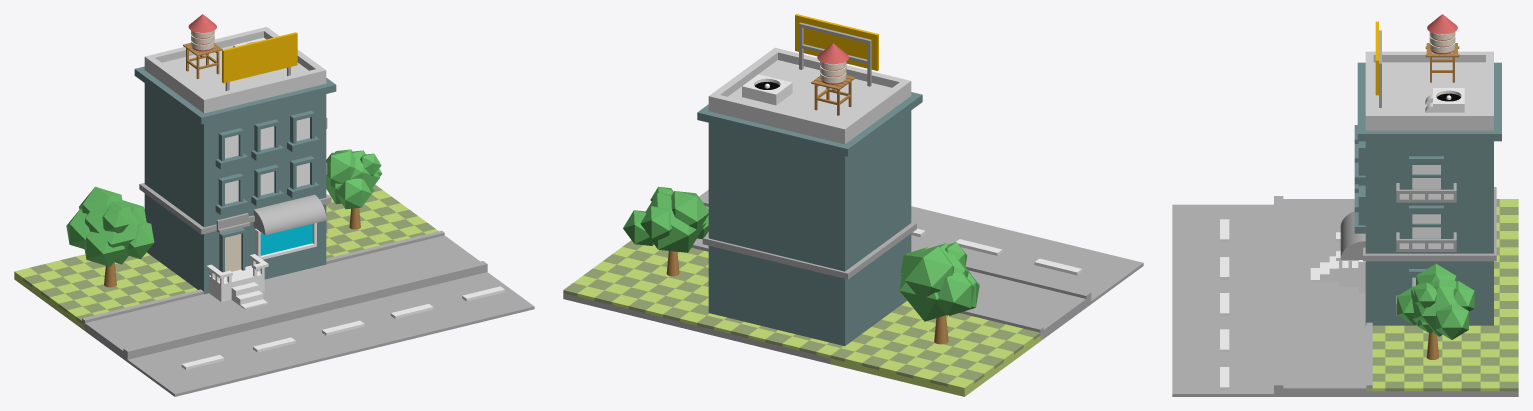
The model's file is home.glb.
3 views of the same model, side by side, from view 1: azimuth 30°, elevation 25°; view 2: azimuth 150°, elevation 25°; view 3: azimuth 270°, elevation 25° (orthographic). The views are drawn at different scales.
Visible parts, largest first — view 1: box (×17), icosahedron (×9); view 2: box (×14), icosahedron (×7); view 3: box (×19), icosahedron (×6), quarterCylinder, cone.
Boxes of the visible parts, x1,y1,x2,y2 form: box (×17): (85,27,534,396); icosahedron (×9): (66,150,379,266); box (×14): (563,14,1143,396); icosahedron (×7): (623,191,974,321); box (×19): (1172,51,1518,396); icosahedron (×6): (1397,263,1474,339); quarterCylinder: (1340,238,1365,259); cone: (1427,14,1457,34).
Size of the model in its own units: 141 by 95.12 by 109.
